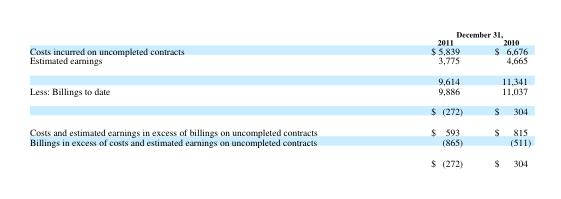table: (28, 28, 530, 168)
table column: (28, 28, 373, 168), (373, 28, 477, 168), (477, 28, 530, 168)
table column header: (28, 28, 530, 46)
table row: (28, 101, 530, 121), (28, 85, 530, 101), (28, 136, 530, 152), (28, 152, 530, 168), (28, 55, 530, 70), (28, 70, 530, 85), (28, 121, 530, 136), (28, 28, 530, 37), (28, 37, 530, 46), (28, 46, 530, 55)
table spanning cell: (373, 28, 530, 37)
